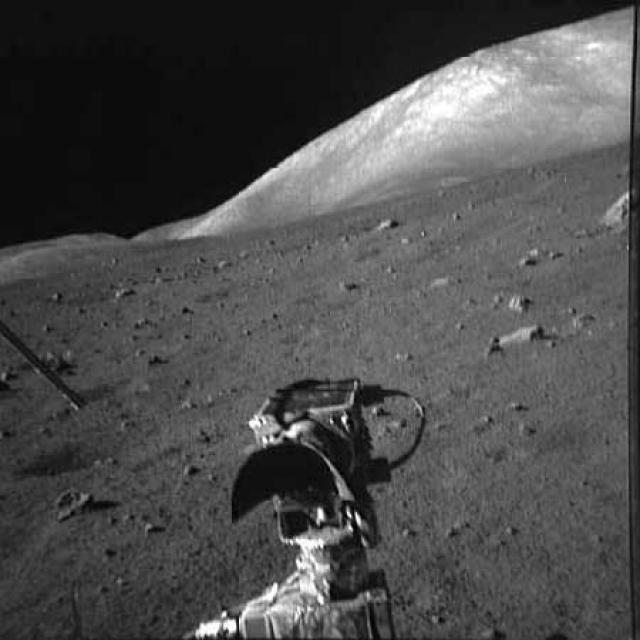artifact: (183, 371, 461, 640), (0, 313, 94, 419)
rock: (48, 472, 102, 528), (596, 179, 638, 245), (488, 313, 554, 350), (494, 292, 540, 314), (373, 205, 403, 237), (518, 242, 546, 271), (326, 276, 362, 298), (110, 276, 138, 303)
